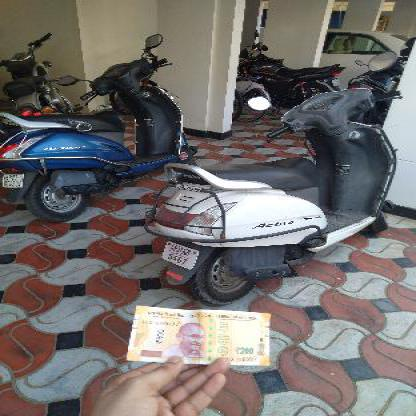New200Front: (127, 304, 269, 363)
